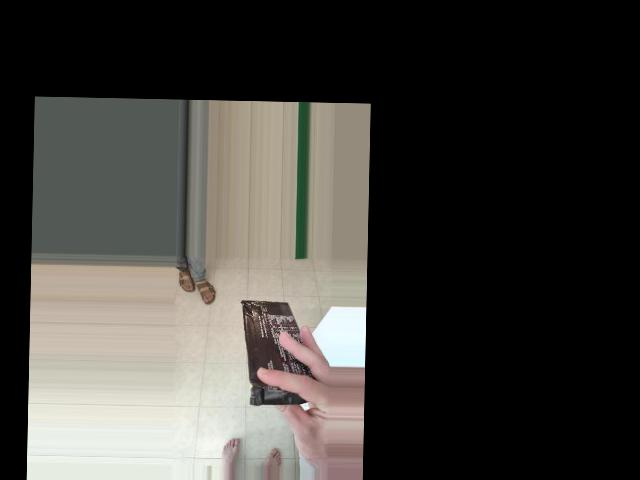chocolate: (174, 319, 297, 401)
